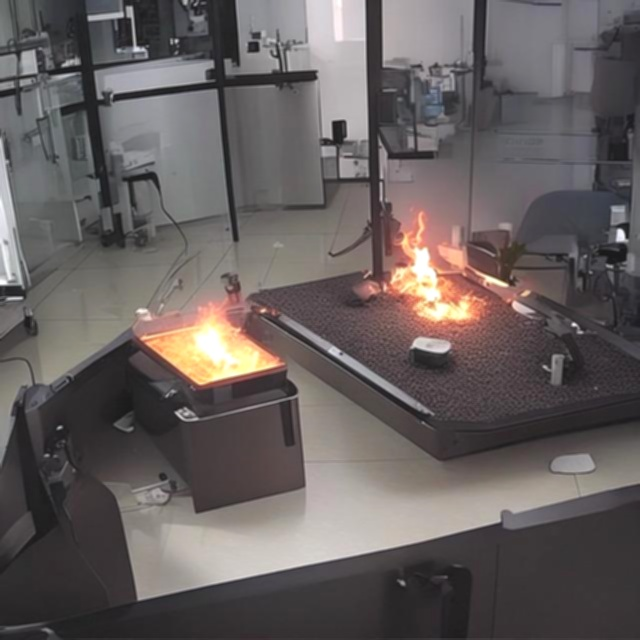fire: (146, 282, 272, 394), (370, 226, 477, 350)
